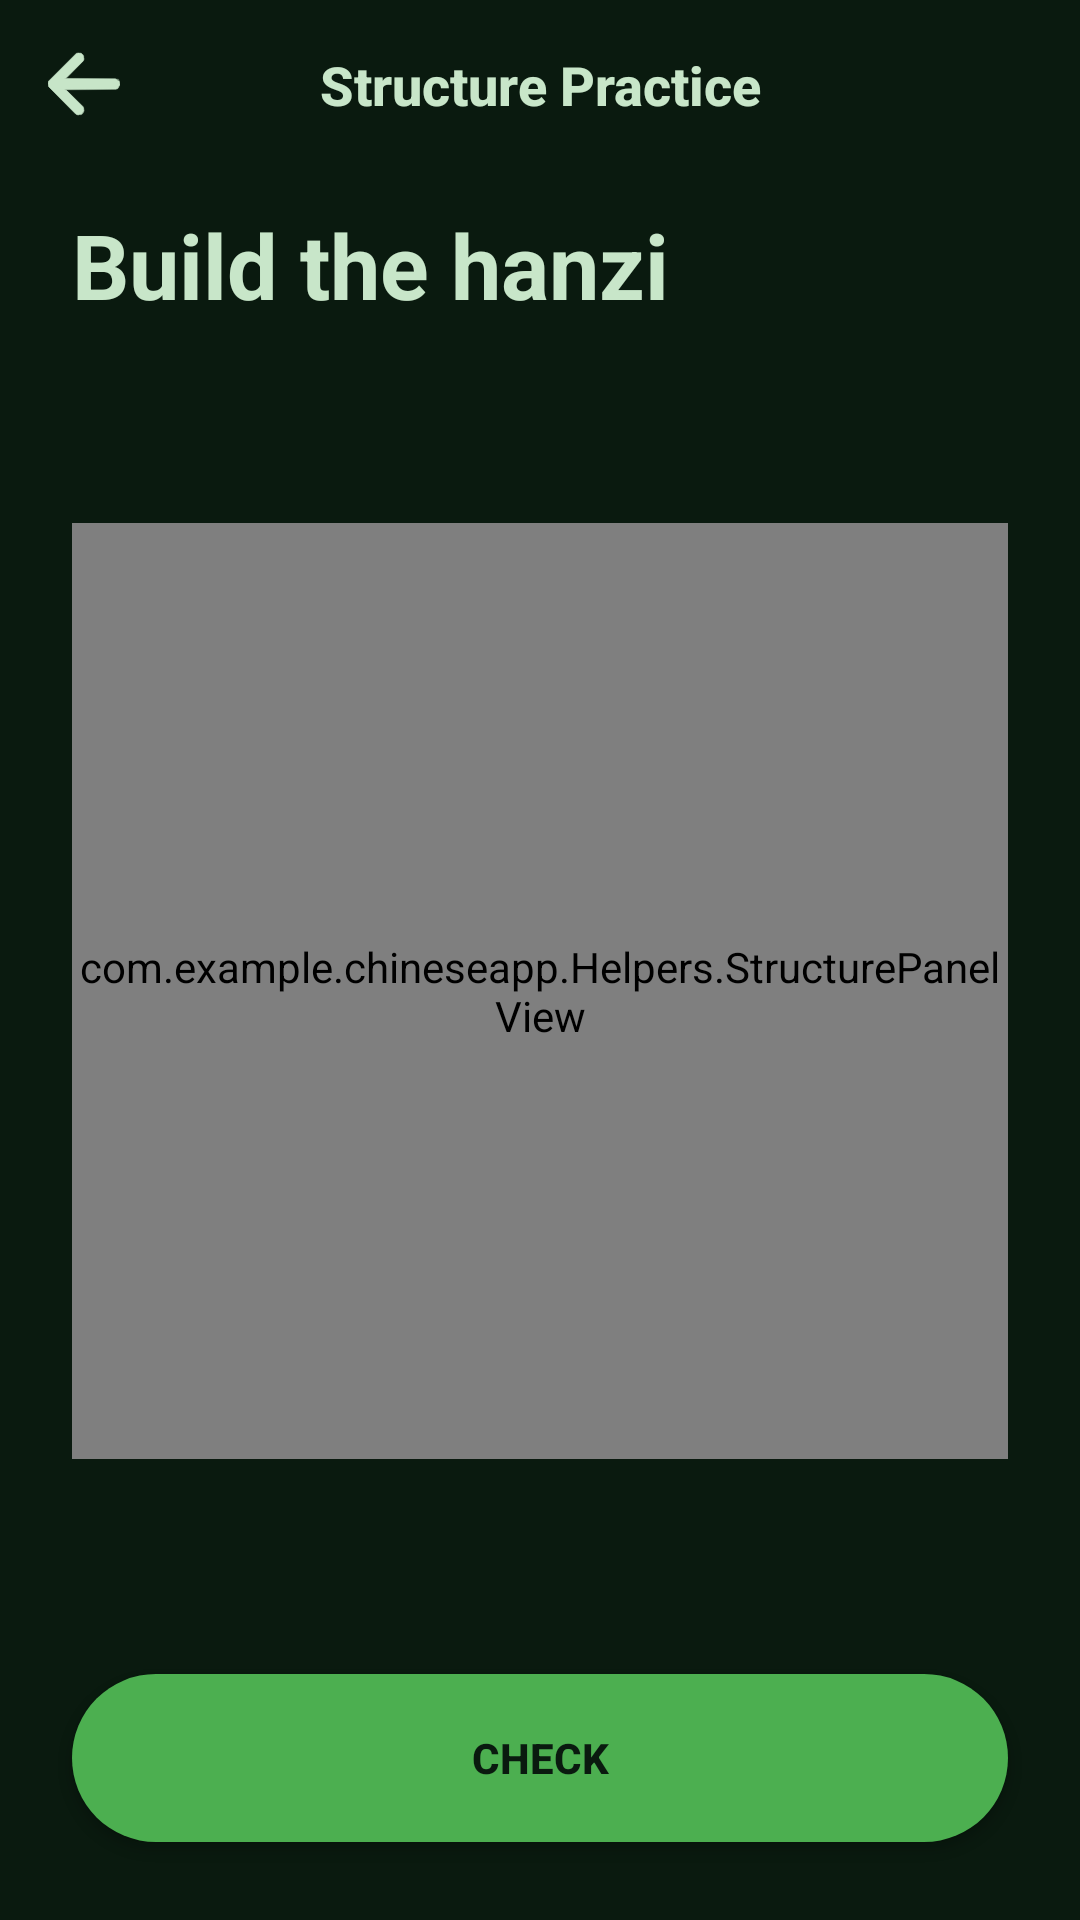

Named icons in this screenshot (1080*1920) and their bounding boxes, Rect(x1, y1, x2, y2):
back: Rect(48, 52, 120, 116)
